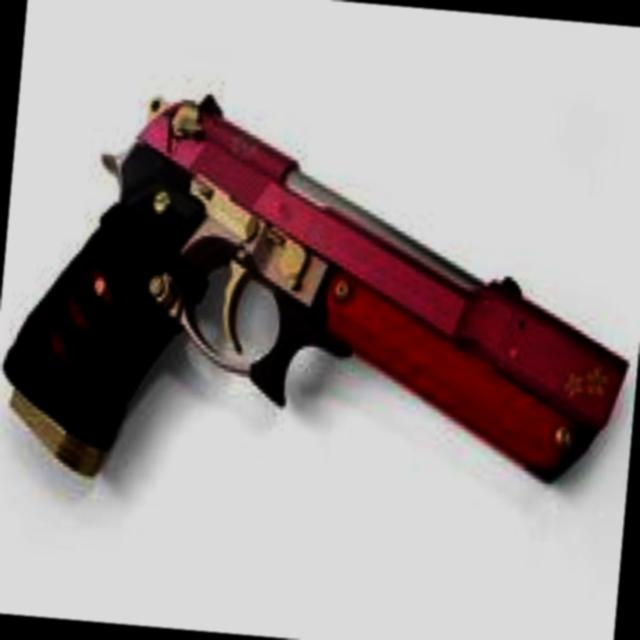semi automatic: (0, 2, 640, 625)
